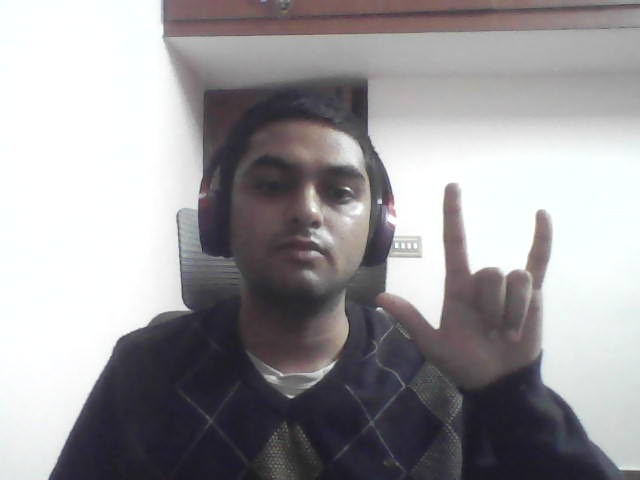I Love You: (369, 166, 583, 424)
